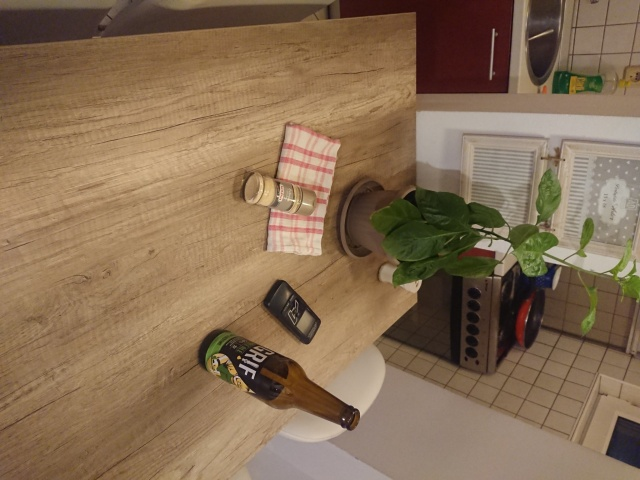Kotanyi Garlic Granules 70g: (240, 169, 319, 218)
